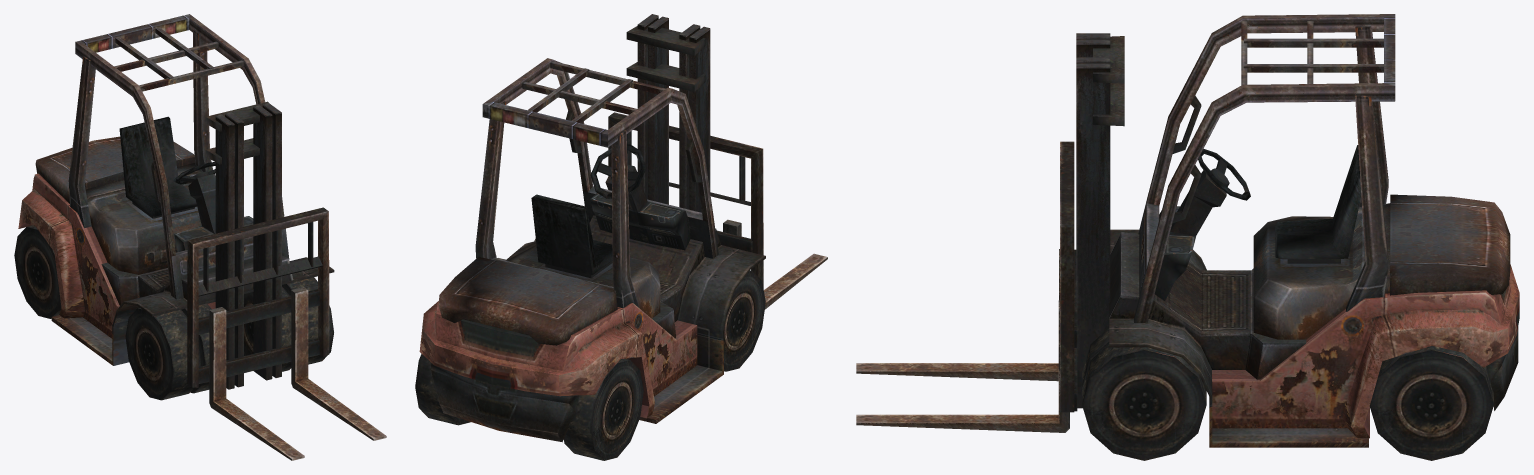
Rendered from Prop_Forklift_lod1.glb.
The picture shows the model from 3 angles, left to right: view 1: azimuth 30°, elevation 25°; view 2: azimuth 150°, elevation 25°; view 3: azimuth 270°, elevation 25°; orthographic projection. The views are drawn at different scales.
Parts seen in each view (by area): view 1: xiutz_chache_lod1; view 2: xiutz_chache_lod1; view 3: xiutz_chache_lod1.
Boxes of the visible parts, x1,y1,x2,y2 form: xiutz_chache_lod1: (14, 14, 386, 460); xiutz_chache_lod1: (415, 14, 827, 460); xiutz_chache_lod1: (856, 14, 1519, 460).
Size of the model in its own units: 2.36 by 3.46 by 5.75.
Materials: 1 (1 with a texture image).
